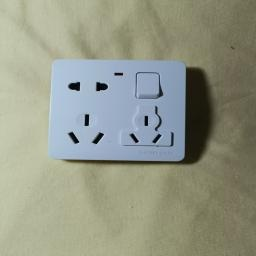outlet: (49, 54, 196, 171)
